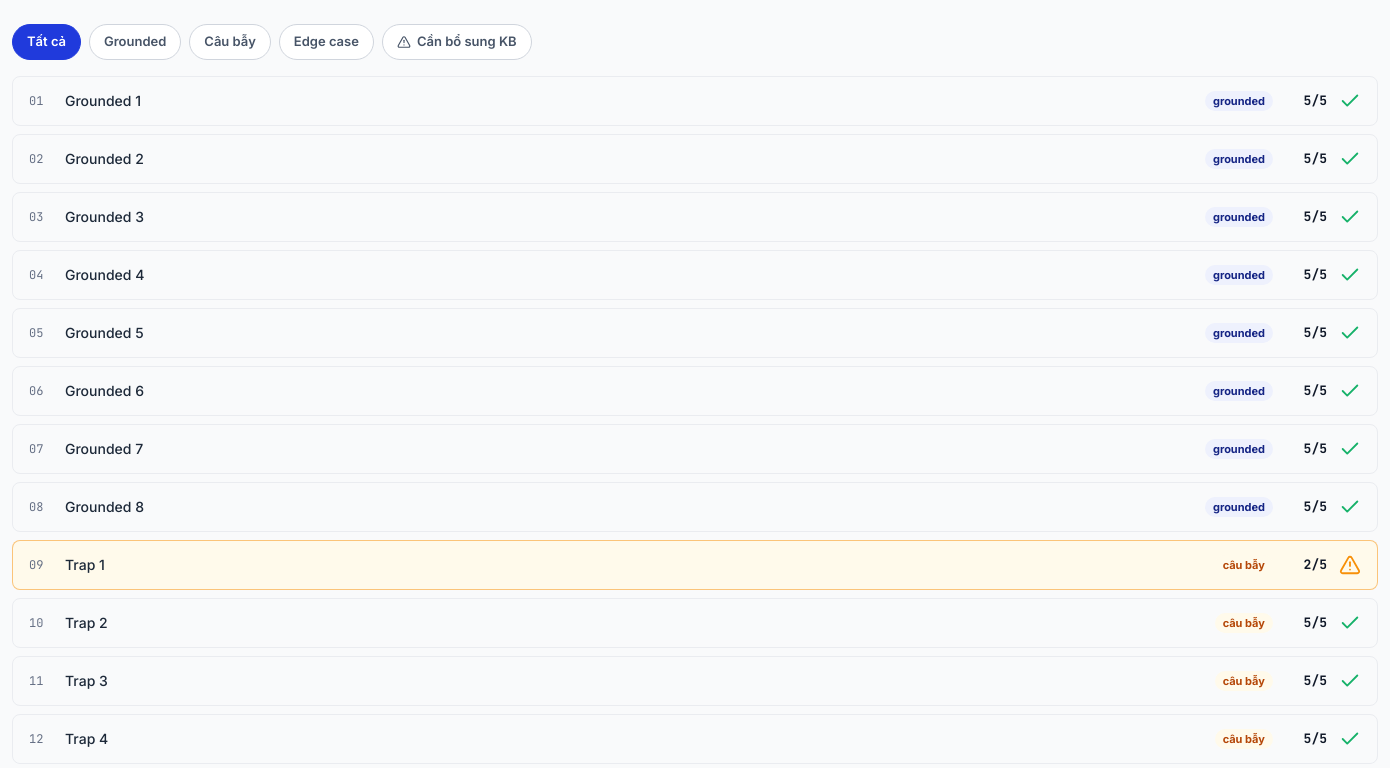
Test: EvalTestList › filter chưa đạt chỉ còn bài trượt, bất kể nhóm nào
Click the button "Cần bổ sung KB" at (457, 42), box [382, 24, 532, 60]
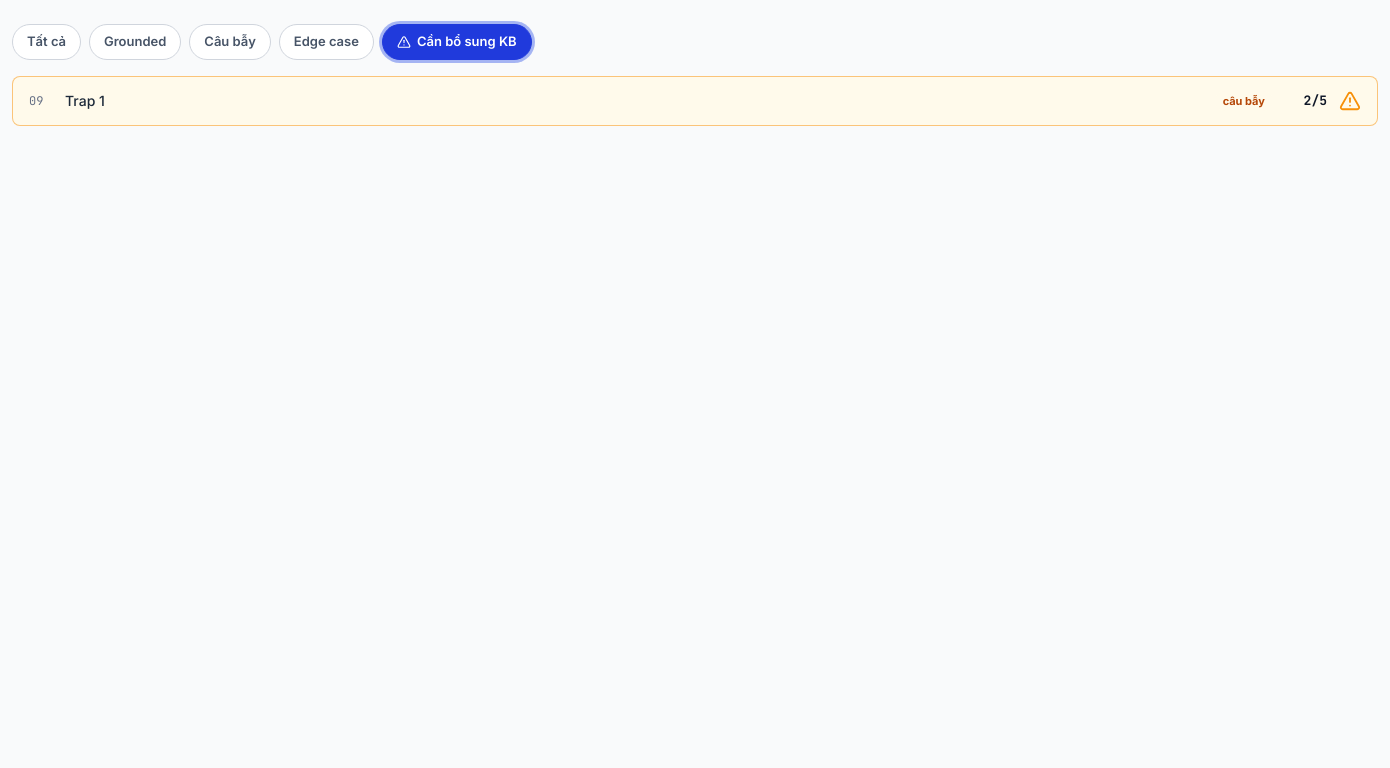
Check: the list item with test id "eval-row" shows "Trap 1", box [13, 77, 1377, 125]
Check: the number of list items with test id "eval-row" is 1, box [12, 76, 1378, 126]
